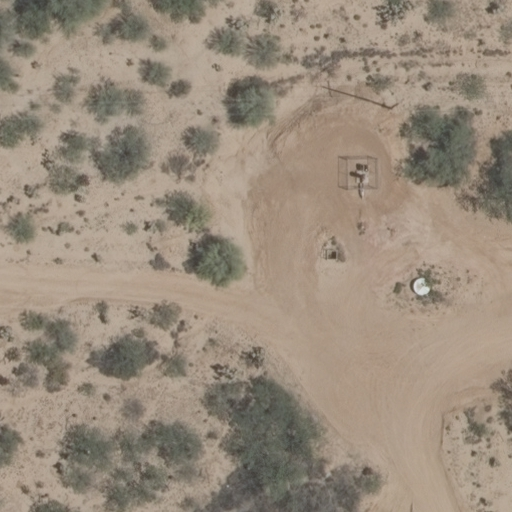DT: (386, 97, 405, 111)
